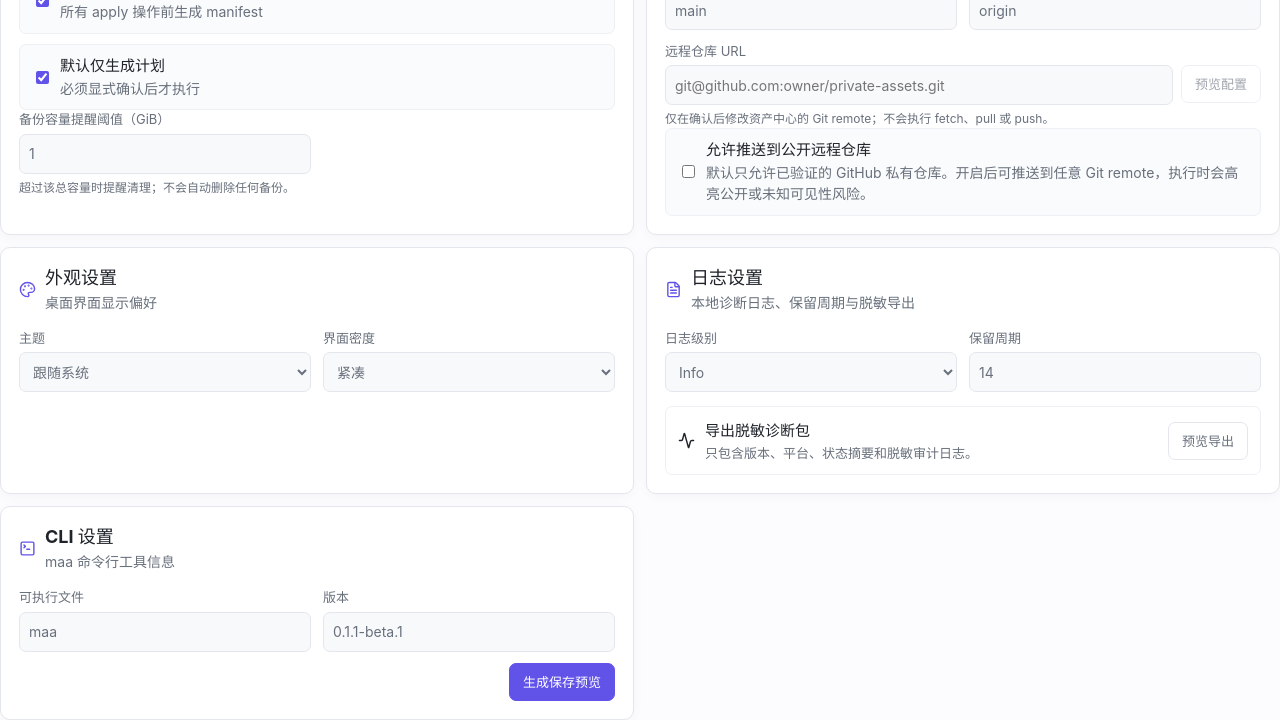
read-only UI integration › shows settings save failures and never reports a successful save
(page scrolled)
Click the button "生成保存预览".
click(562, 682)  # box [509,663,615,701]
(page scrolled)
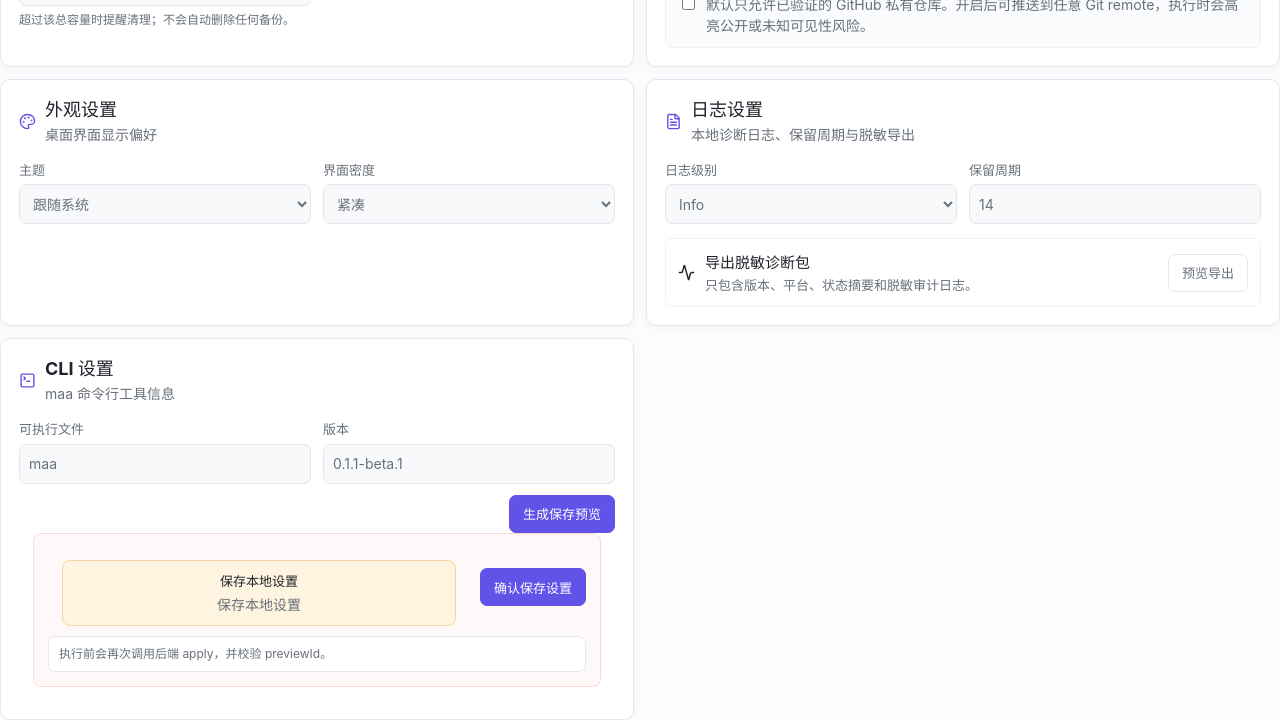
Click the button "确认保存设置".
click(533, 587)  # box [480,568,586,606]
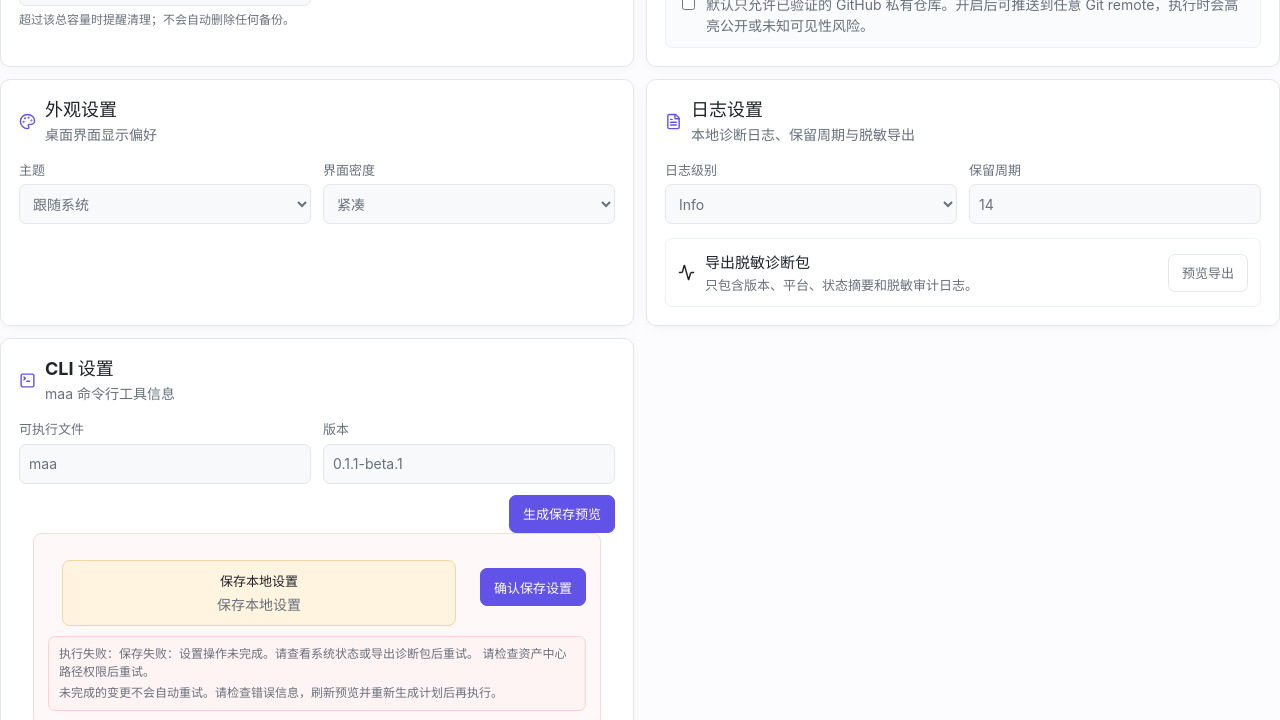
Result: the text "执行失败：保存失败：设置操作未完成。请查看系统状态或导出诊断包后重试。 请检查资产中心路径权限后重试。" is shown at [59,645,575,680]
